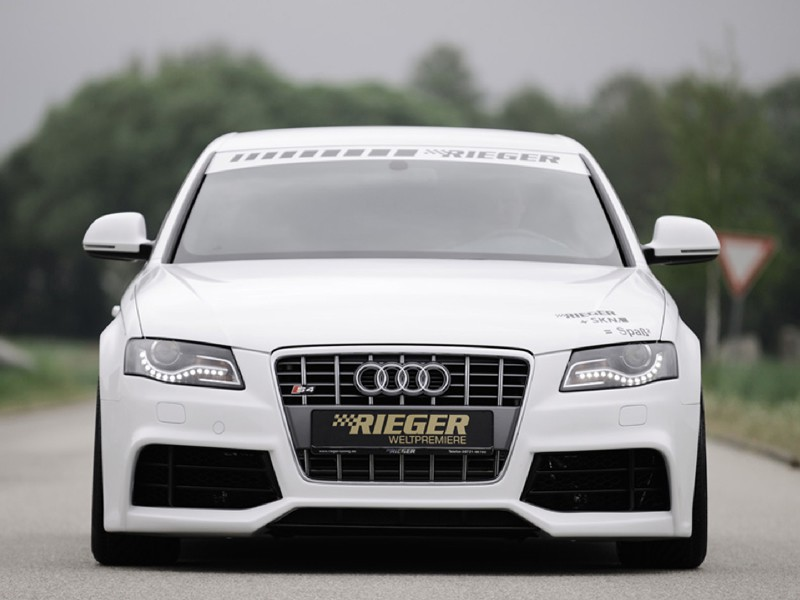audi: (349, 361, 455, 397)
